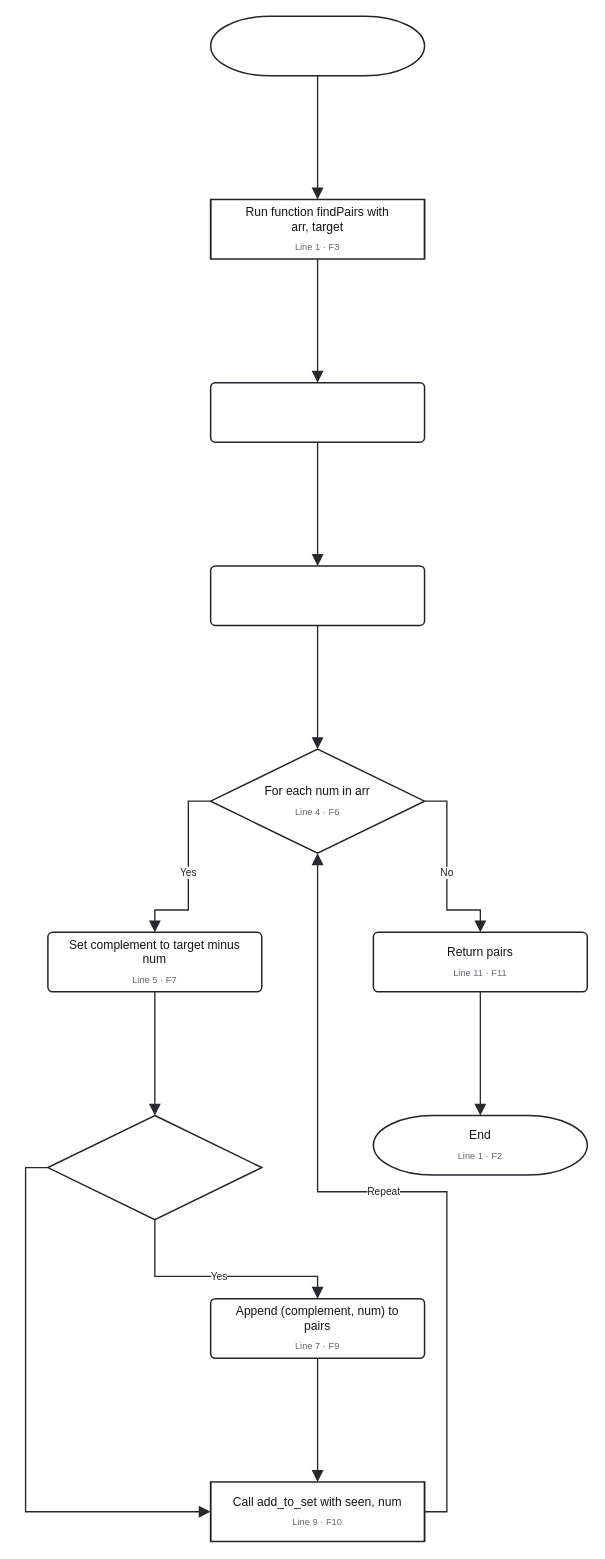
Image size: 605x1559. Some labels were removed from this diagram. The box of each missing label's shape, as (x1, y1, x2, y2) in pixels:
Complement is contained in seen? Line 6 · F8: (47, 1114, 262, 1220)
Set pairs to an empty list Line 3 · F5: (209, 565, 425, 626)
Set seen to an empty set Line 2 · F4: (209, 381, 425, 442)
Start Line 1 · F1: (209, 15, 425, 76)
